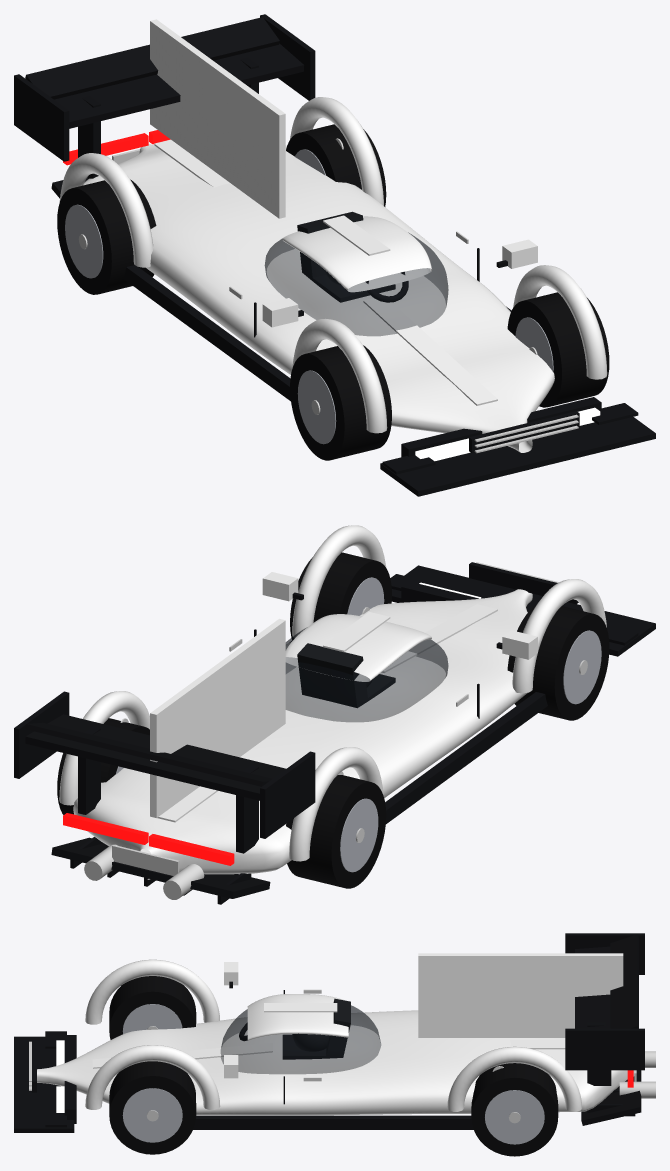
Rendered from car_lmp.glb.
3 renders of one model, top to bottom at view 1: azimuth 30°, elevation 25°; view 2: azimuth 150°, elevation 25°; view 3: azimuth 270°, elevation 25°, orthographic. The views are drawn at different scales.
Visible parts, largest first — view 1: body, tire (×4), fin0, cabin, splitter, wing_flap, roof, wing_main, rim (×3), skirtR, flareR1.5, flareL1.5 (+17 smaller); view 2: body, tire (×4), fin0, cabin, wing_main, rim (×3), roof, skirtR, seat-1, flareL1.5, plate_end-1, flareR-1.5 (+20 smaller); view 3: body, fin0, tire (×3), cabin, rim (×3), skirtL, plate_end1, splitter, flareL-1.5, flareL1.5, flareR1.5, roof (+17 smaller).
Boxes of the visible parts, <box> form: body: <box>83,144,554,452</box>; tire (×4): <box>57,124,609,460</box>; fin0: <box>150,19,285,218</box>; cabin: <box>264,232,448,335</box>; splitter: <box>380,417,655,496</box>; wing_flap: <box>25,17,279,99</box>; roof: <box>282,216,431,292</box>; wing_main: <box>54,43,304,128</box>; rim (×3): <box>65,204,553,444</box>; skirtR: <box>123,265,290,401</box>; flareR1.5: <box>292,318,387,433</box>; flareL1.5: <box>513,265,607,379</box>; body: <box>73,589,532,879</box>; tire (×4): <box>57,552,609,888</box>; fin0: <box>150,618,285,817</box>; cabin: <box>285,628,448,721</box>; wing_main: <box>25,714,285,800</box>; rim (×3): <box>340,577,601,872</box>; roof: <box>285,614,431,681</box>; skirtR: <box>385,692,547,823</box>; seat-1: <box>297,643,367,707</box>; flareL1.5: <box>292,525,386,637</box>; plate_end-1: <box>260,751,315,838</box>; flareR-1.5: <box>289,747,383,861</box>; body: <box>37,1010,634,1115</box>; fin0: <box>418,953,623,1037</box>; tire (×3): <box>109,976,558,1156</box>; cabin: <box>221,1005,380,1073</box>; rim (×3): <box>122,1004,544,1144</box>; skirtL: <box>193,1115,473,1129</box>; plate_end1: <box>565,1028,644,1070</box>; splitter: <box>14,1036,74,1132</box>; flareL-1.5: <box>447,1046,582,1111</box>; flareL1.5: <box>85,1045,220,1109</box>; flareR1.5: <box>85,959,219,1024</box>; roof: <box>247,994,348,1040</box>.
Size of the model in its own units: 2.11 by 1.36 by 5.32.
